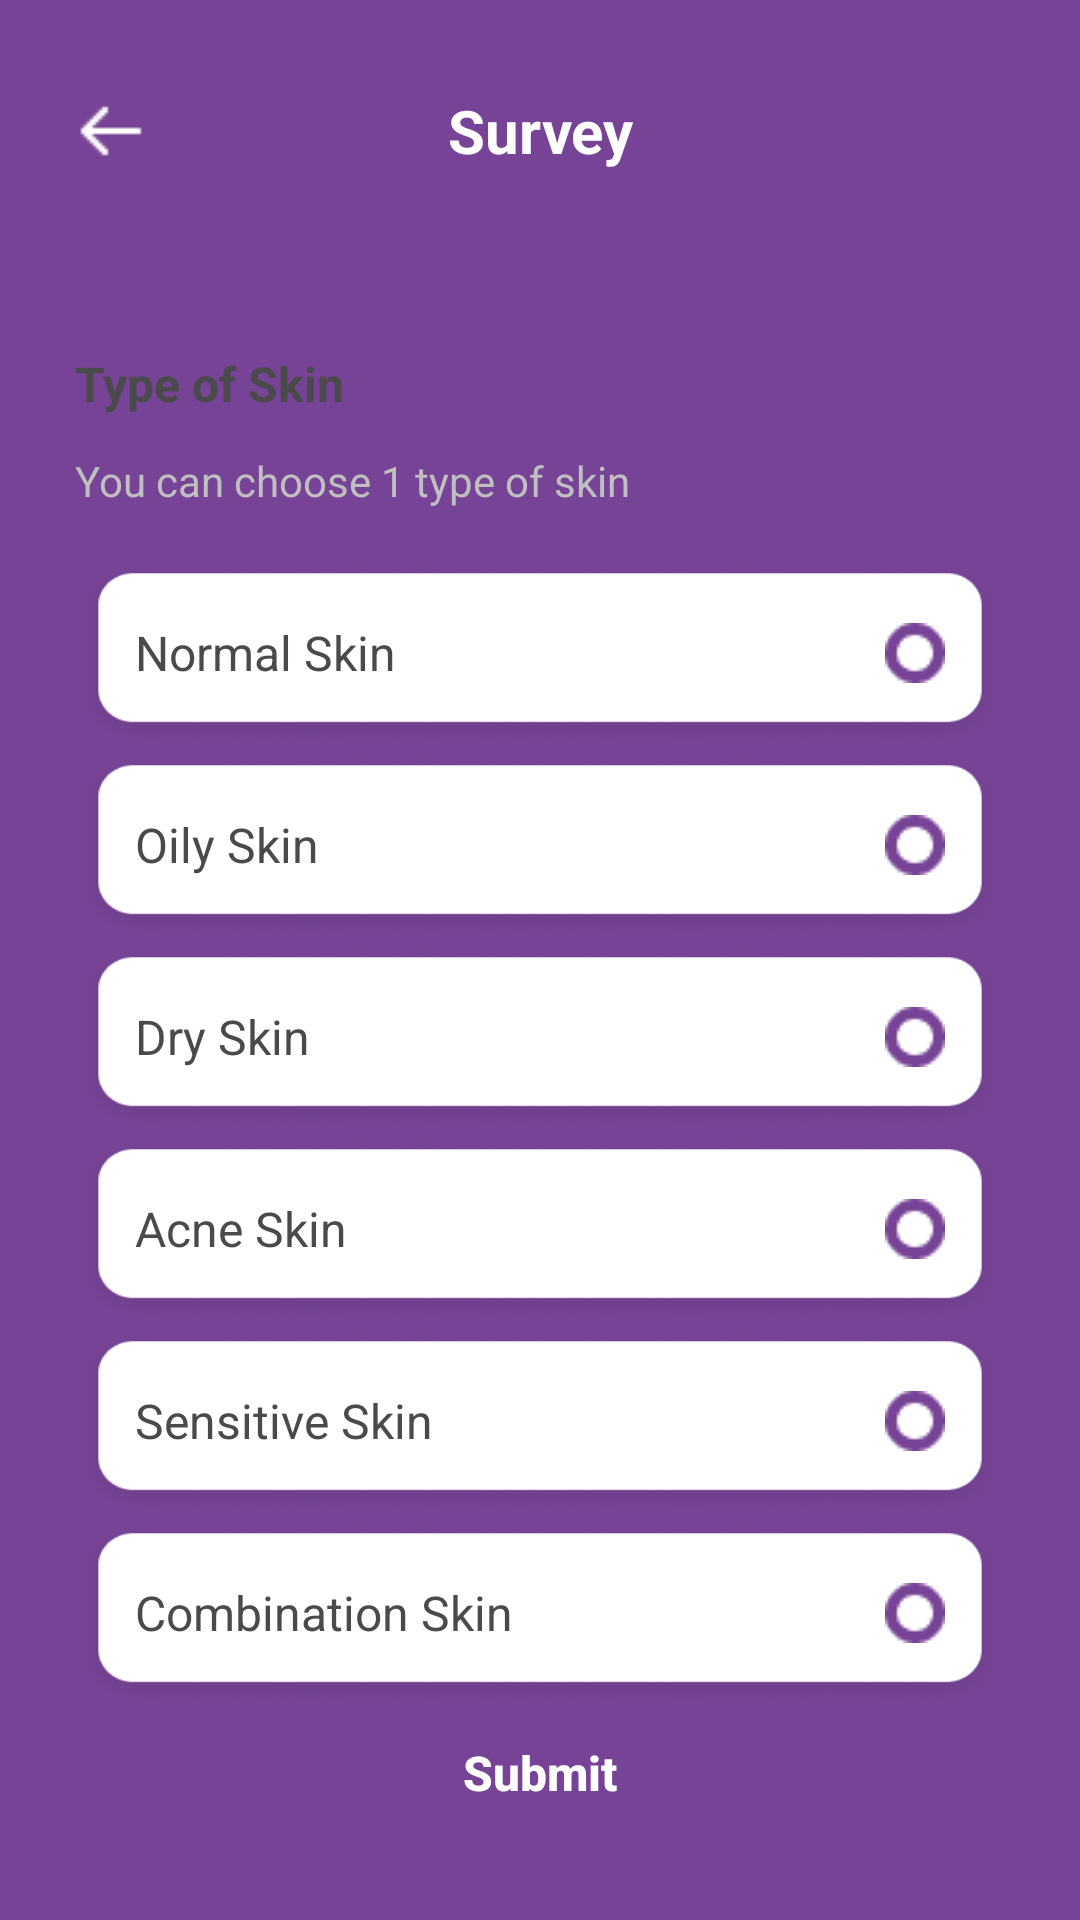

Icons on this 1080px x 1920px Android screen, each with its box as [left=x1, top=y1, right=x2, bottom=y2]:
back: [left=80, top=106, right=142, bottom=156]
